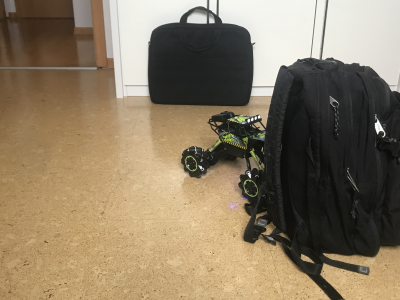remote control car: (180, 109, 275, 205)
